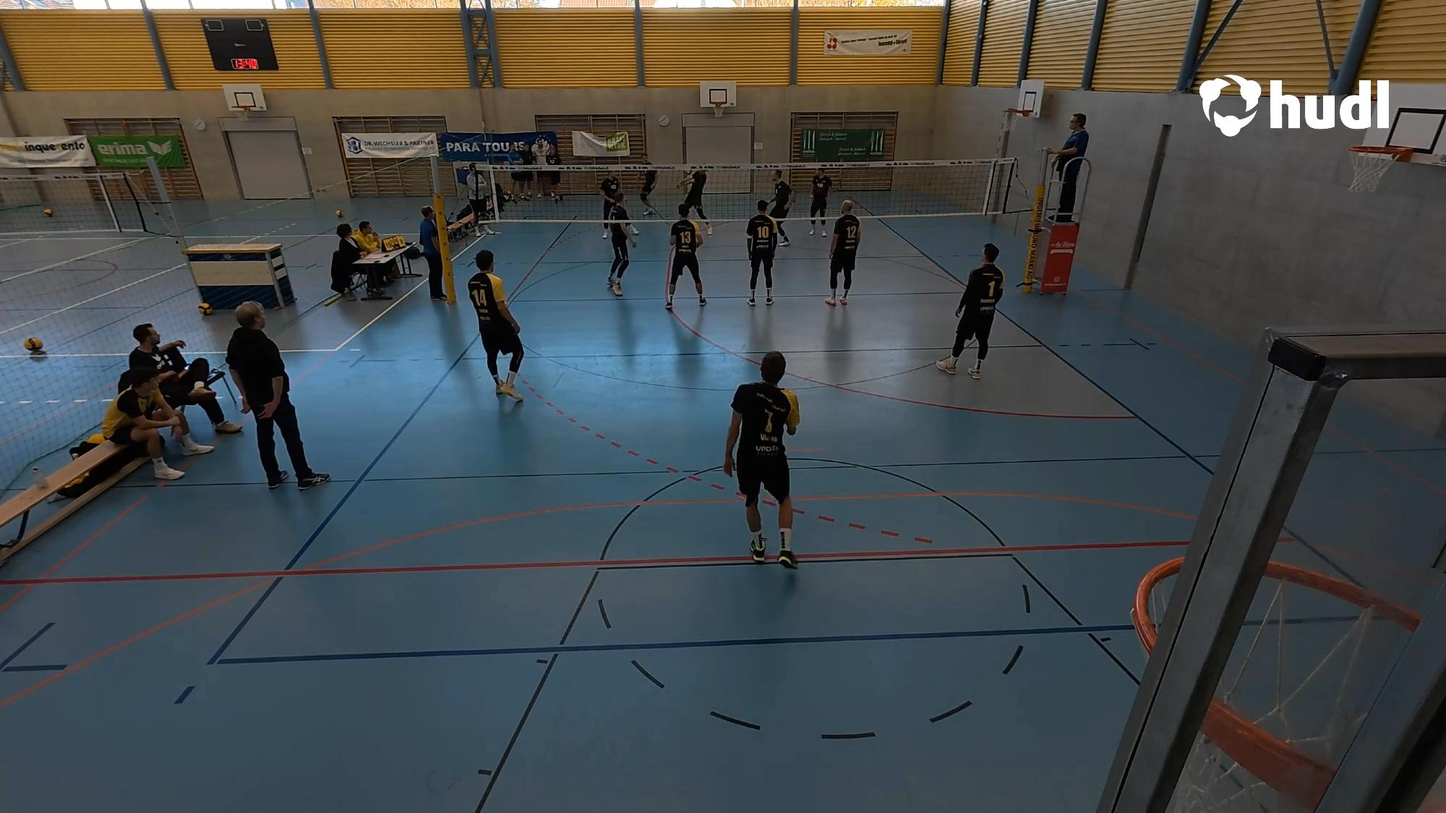ricezione: (673, 159, 712, 225)
